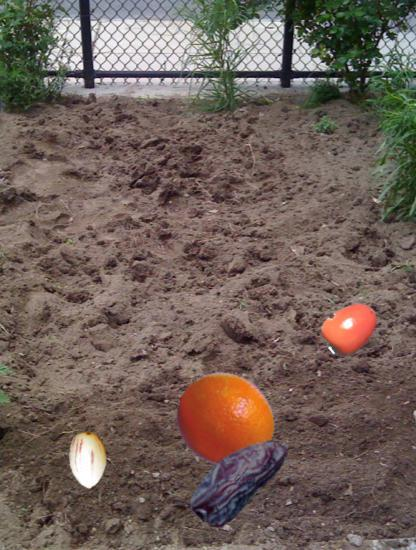Dates: (183, 422, 296, 535)
Kaki: (321, 299, 380, 358)
Pepino: (61, 431, 119, 489)
Tangelo: (175, 369, 283, 477)
